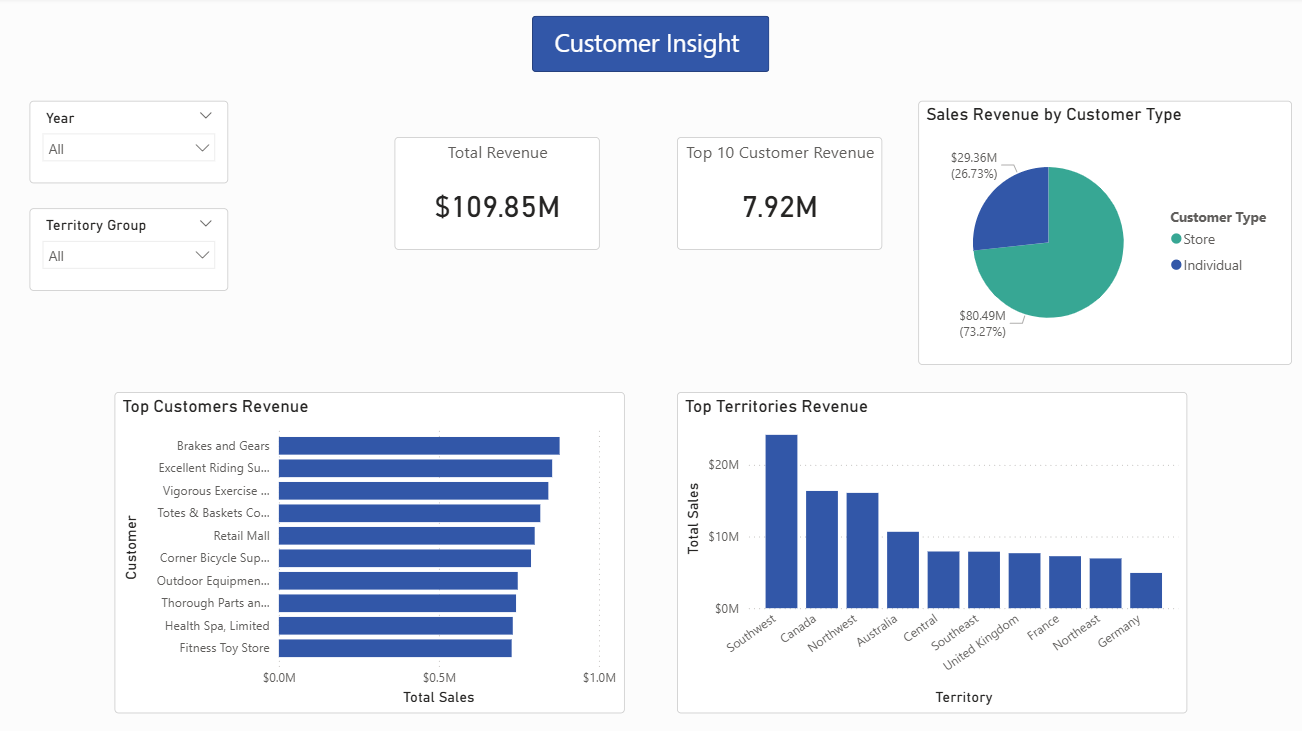

What the dashboard file says about the page in this screenshot:
{"tool":"powerbi","page":{"name":"Customer & Territory Insights","canvas":[1280,720],"ordinal":2},"visuals":[{"type":"clusteredBarChart","title":"Top Customers Revenue","fields":{"Category":["DimCustomer.CustomerName"],"Y":["FactSales.Total Sales"]},"box":[114.9,386.4,498.9,314.3],"z":0},{"type":"clusteredColumnChart","title":"Top Territories Revenue","fields":{"Category":["DimTerritory.TerritoryName"],"Y":["FactSales.Total Sales"]},"box":[665.2,386.4,498.9,314.3],"z":1000},{"type":"pieChart","title":"Sales Revenue by Customer Type","fields":{"Y":["FactSales.Total Sales"],"Category":["DimCustomer.CustomerType"]},"box":[901.2,101.5,365.6,258],"z":2000},{"type":"slicer","fields":{"Values":["DimDate.Year"]},"box":[31.8,101.5,194.4,80.7],"z":3000},{"type":"slicer","fields":{"Values":["DimTerritory.TerritoryGroup"]},"box":[31.8,206.7,194.4,80.7],"z":4000},{"type":"card","title":"Top 10 Customer Revenue","fields":{"Values":["FactSales.Top 10 Customer Revenue"]},"box":[665.2,137,200.5,110.1],"z":5000},{"type":"card","title":"Total Revenue","fields":{"Values":["FactSales.Total Sales"]},"box":[388.9,137,200.5,110.1],"z":6000},{"type":"shape","box":[523.4,18.3,232.3,55],"z":7000,"group":"g1"},{"type":"textbox","box":[540.5,23.2,200.5,46.5],"z":8000,"group":"g1"},{"type":"group","id":"g1","title":"Group 1","box":[523.4,18.3,232.3,55],"z":8001}]}

Visuals, with their boxes in screenshot pixels (x1, y1, x2, y2), scaled from the page's 1280x720 canvas onto the 1302x731 screenshot:
"Top Customers Revenue" clusteredBarChart: pyautogui.locateOnScreen(117, 392, 624, 711)
"Top Territories Revenue" clusteredColumnChart: pyautogui.locateOnScreen(677, 392, 1184, 711)
"Sales Revenue by Customer Type" pieChart: pyautogui.locateOnScreen(917, 103, 1289, 365)
slicer - DimDate.Year: pyautogui.locateOnScreen(32, 103, 230, 185)
slicer - DimTerritory.TerritoryGroup: pyautogui.locateOnScreen(32, 210, 230, 292)
"Top 10 Customer Revenue" card: pyautogui.locateOnScreen(677, 139, 881, 251)
"Total Revenue" card: pyautogui.locateOnScreen(396, 139, 600, 251)
shape: pyautogui.locateOnScreen(532, 19, 769, 74)
textbox: pyautogui.locateOnScreen(550, 24, 754, 71)
"Group 1" group: pyautogui.locateOnScreen(532, 19, 769, 74)
